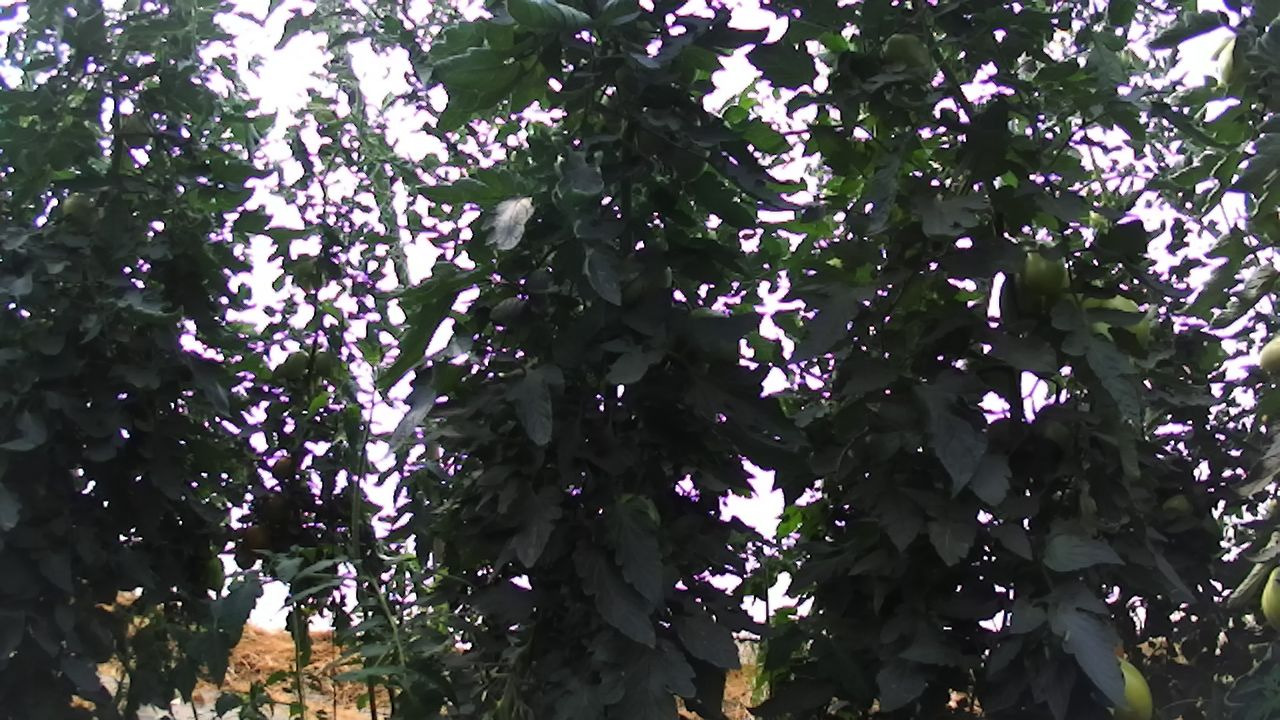tomato: (1010, 230, 1073, 304), (1104, 653, 1162, 720)
